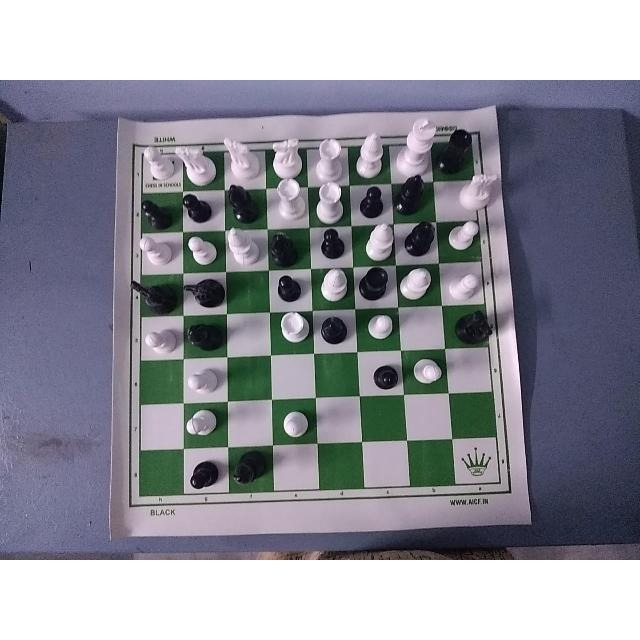black-bishop: (225, 182, 265, 221), (233, 445, 265, 493), (187, 313, 223, 354), (401, 216, 435, 259), (316, 312, 352, 350), (271, 228, 305, 268), (400, 175, 436, 211)
black-knight: (127, 278, 177, 310), (365, 354, 401, 396), (455, 312, 499, 346), (182, 272, 221, 305)
black-pawn: (182, 453, 221, 493), (354, 178, 391, 217), (180, 190, 216, 229), (136, 195, 172, 229), (313, 225, 349, 256), (274, 270, 308, 302)
black-rook: (442, 125, 480, 169), (358, 257, 391, 304)
white-bishop: (225, 225, 269, 270), (400, 264, 437, 308), (354, 130, 386, 177), (358, 217, 393, 259), (316, 263, 348, 303)
white-king: (396, 117, 438, 176)
white-knight: (180, 136, 218, 187), (223, 132, 266, 176), (455, 176, 499, 217), (270, 138, 306, 174)
white-pawn: (139, 143, 175, 189), (136, 234, 180, 270), (183, 407, 223, 446), (410, 349, 445, 391), (443, 220, 482, 257), (279, 400, 314, 440), (445, 261, 479, 302), (362, 309, 398, 344), (145, 320, 177, 358), (184, 231, 219, 264), (188, 365, 220, 399)
white-rook: (312, 181, 352, 225), (275, 174, 309, 221), (314, 139, 348, 179), (275, 309, 311, 345)
